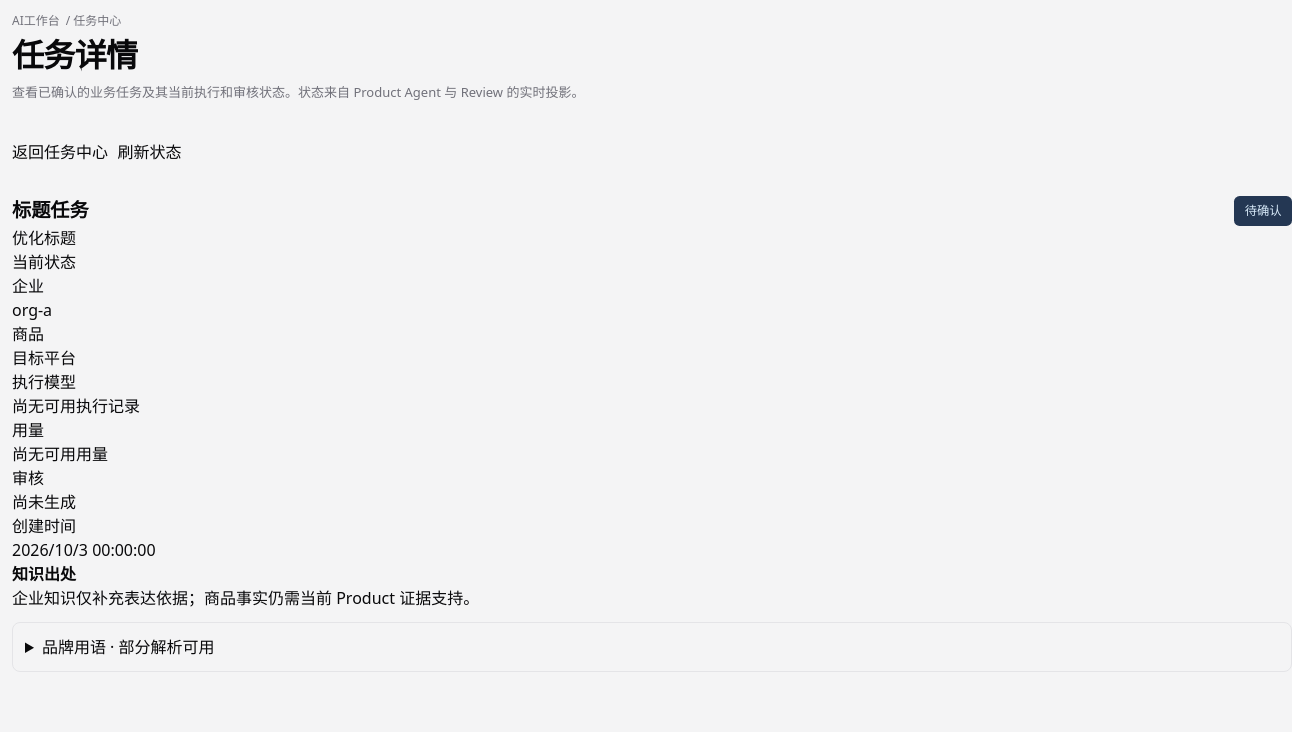
Test case: shows freshly projected Knowledge and removes protected text after refresh
Check: the heading "品牌用语 · 部分解析可用" is shown, box [42,636,214,658]
Step 1. Click the button "刷新状态" → point(150, 152), box [118,140,182,164]
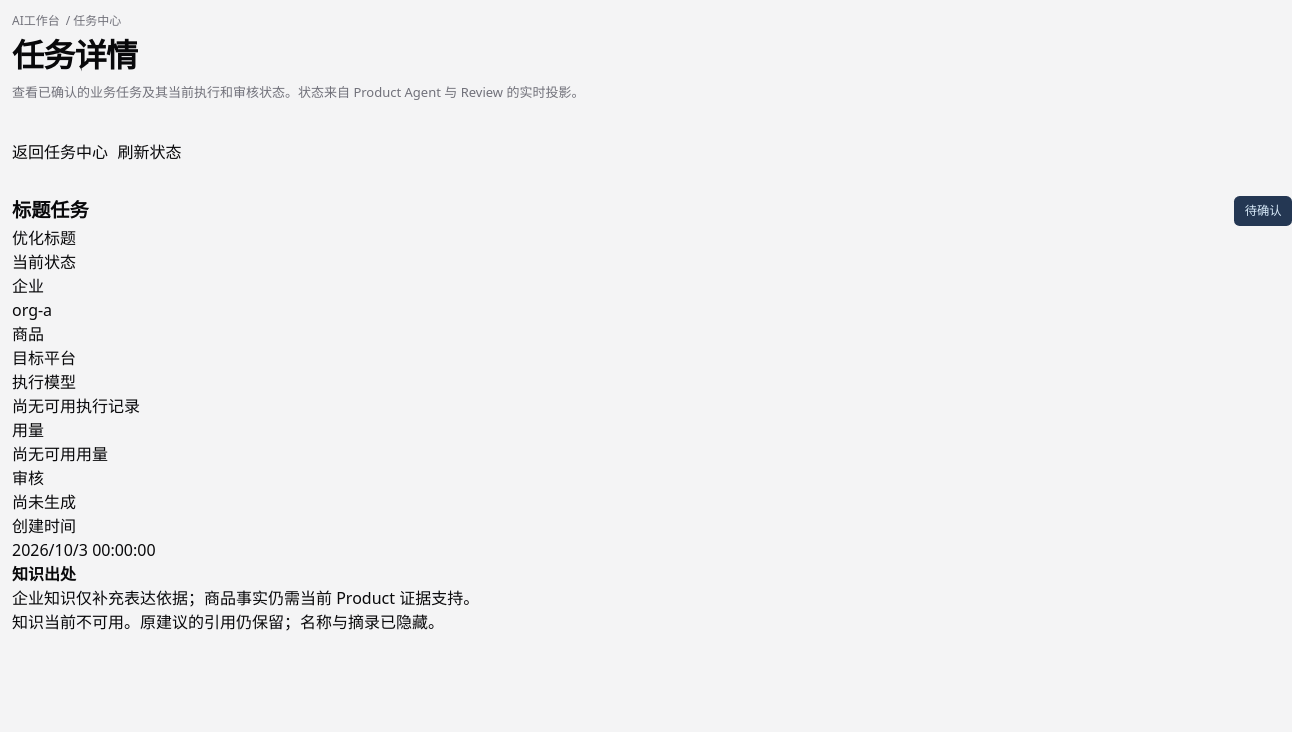
Check: the text "知识当前不可用。原建议的引用仍保留；名称与摘录已隐藏。" is shown, box [12,612,444,634]
Check: the heading "品牌用语" is gone
